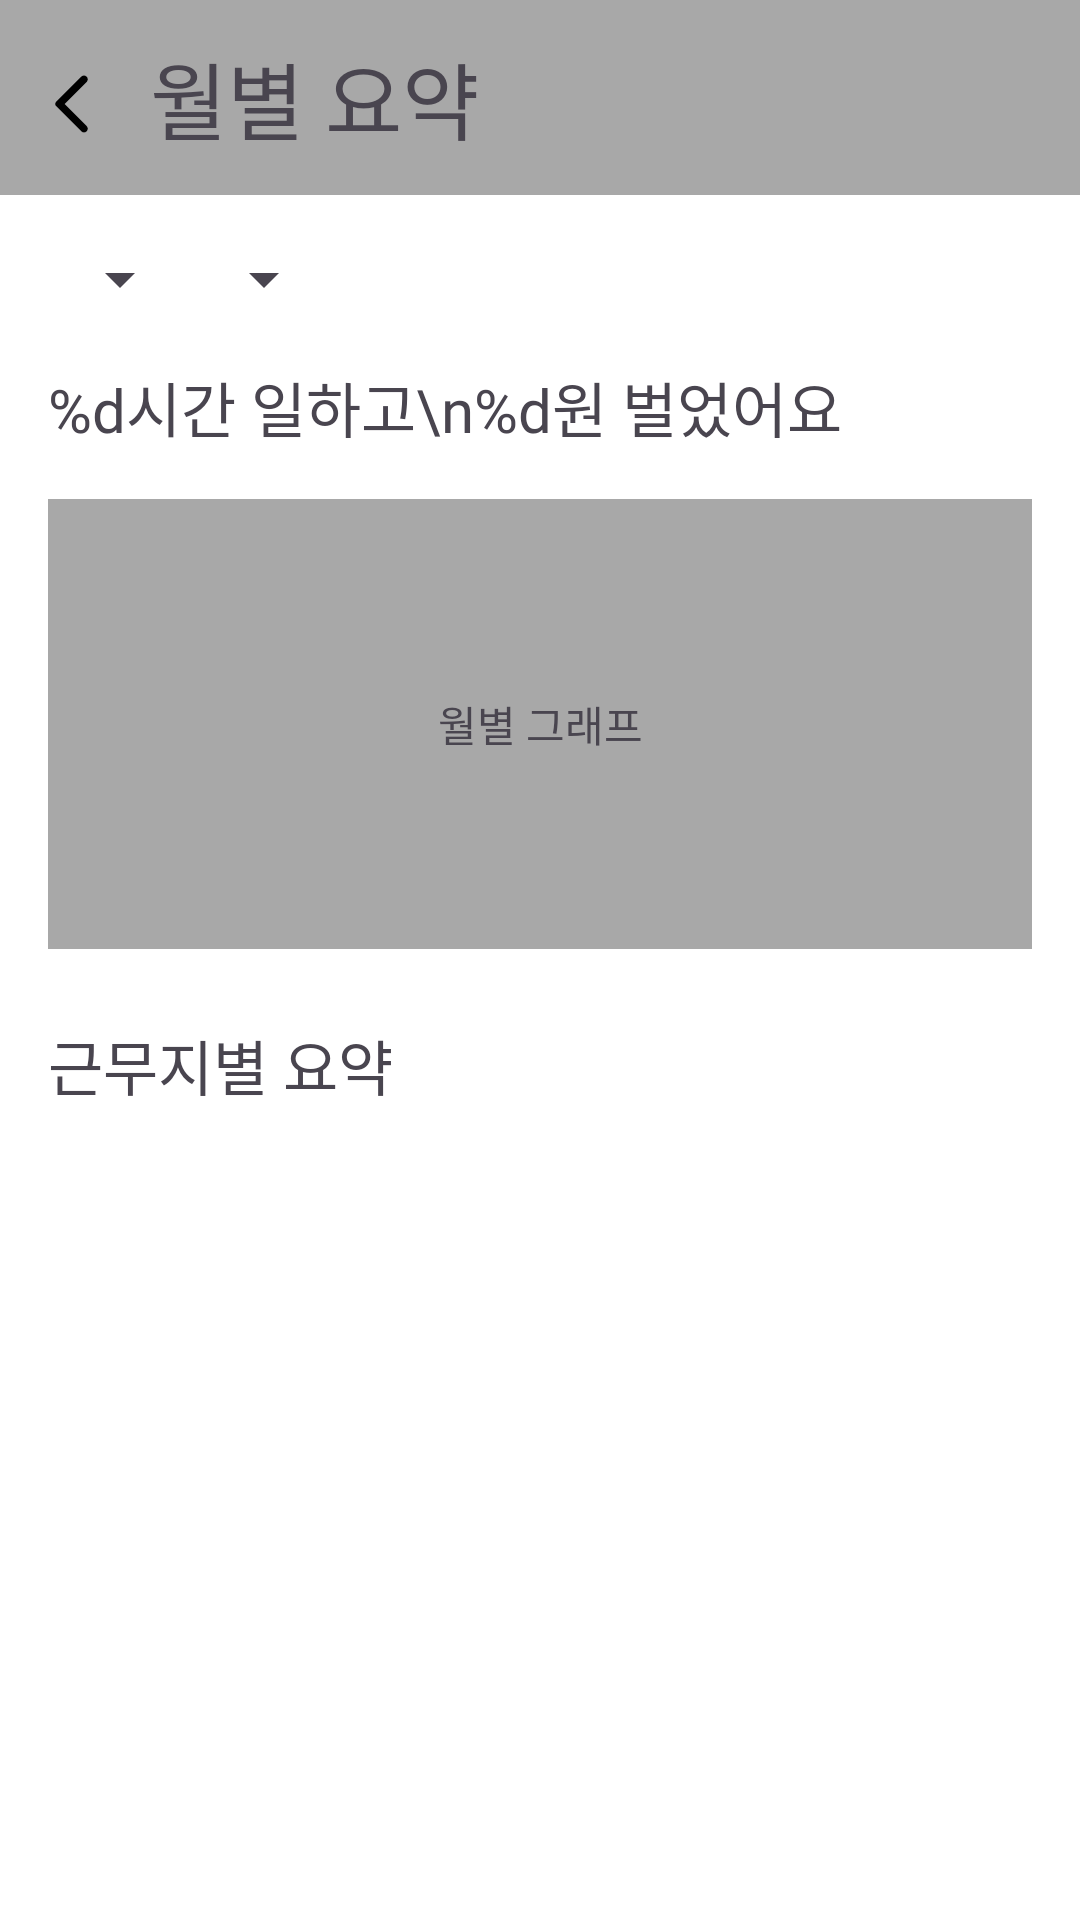

Screen size 1080px×1920px. Icon name, then its center in pixels as (x=x, y=y):
back: (x=71, y=104)
